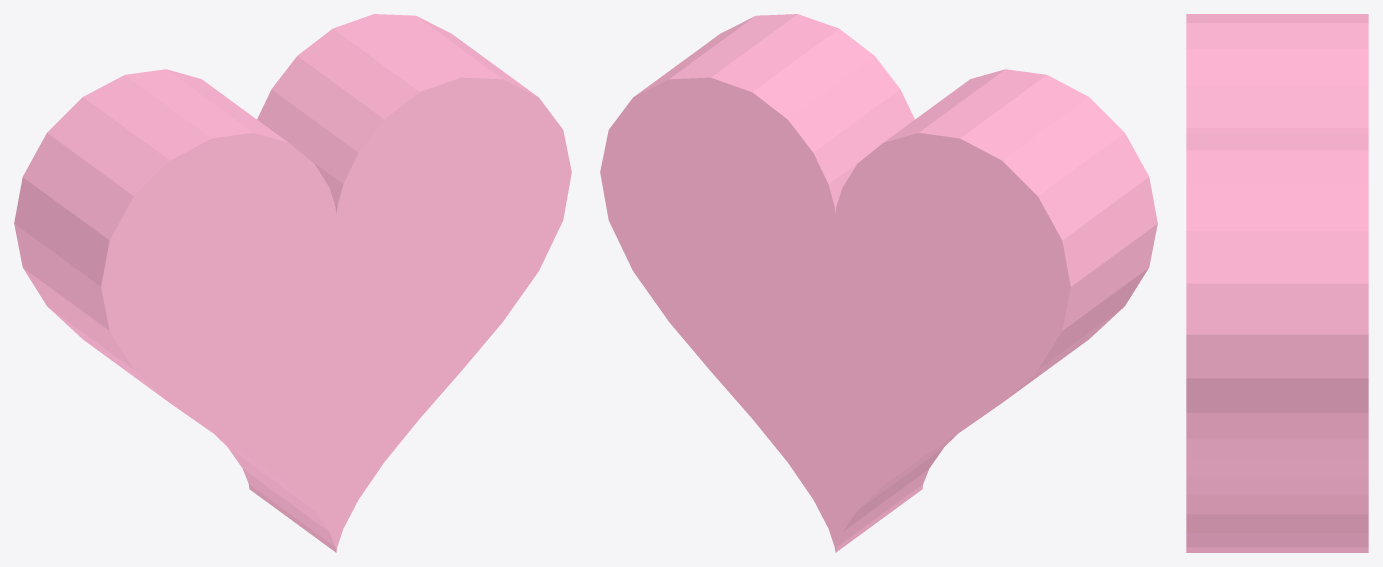
File: heart_pink.glb
3 renders of one model, left to right at view 1: azimuth 30°, elevation 25°; view 2: azimuth 150°, elevation 25°; view 3: azimuth 270°, elevation 25°, orthographic. The views are drawn at different scales.
Parts seen in each view (by area): view 1: heart_pink; view 2: heart_pink; view 3: heart_pink.
Boxes of the visible parts, x1,y1,x2,y2 form: heart_pink: (14,14,571,552); heart_pink: (600,14,1157,552); heart_pink: (1186,14,1368,552).
Size of the model in its own units: 0.05 by 0.0452 by 0.016.
